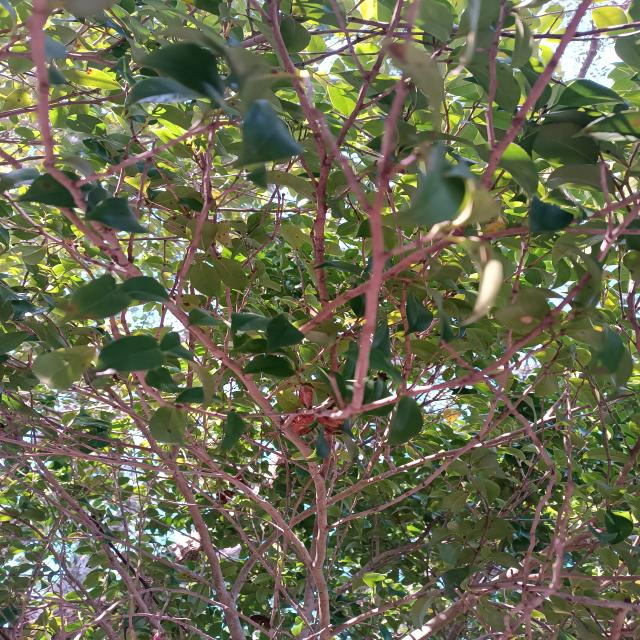Twig: (24, 0, 332, 640), (294, 0, 589, 334), (230, 388, 640, 600), (0, 408, 162, 631), (106, 386, 246, 640), (316, 0, 405, 373), (0, 464, 218, 590), (314, 107, 387, 413), (182, 428, 314, 569), (0, 512, 120, 640), (177, 123, 217, 306), (379, 80, 405, 209)
